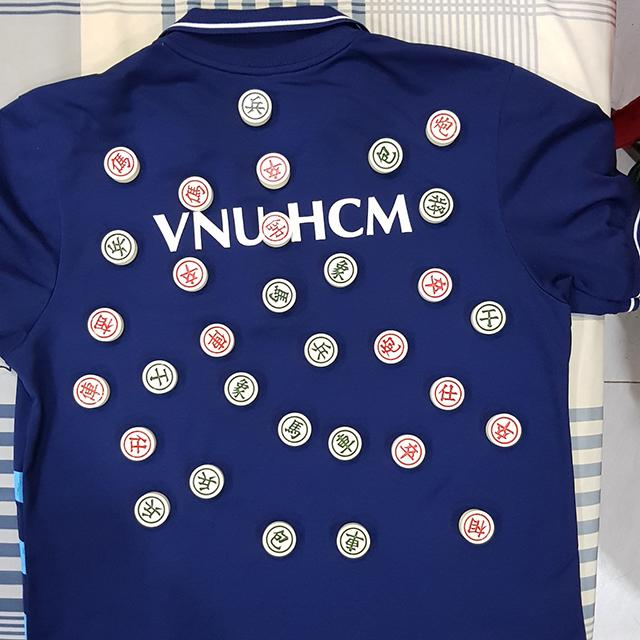black-advisor: (141, 358, 179, 393), (473, 298, 506, 336)
black-cannon: (259, 520, 298, 558), (367, 136, 405, 174)
black-chariot: (327, 424, 364, 462), (338, 522, 370, 558)
black-elephant: (222, 369, 260, 409), (323, 251, 359, 290)
black-general: (418, 187, 455, 224)
black-horse: (276, 411, 314, 450), (259, 276, 298, 314)
black-soldier: (130, 490, 173, 530), (188, 461, 225, 500), (237, 88, 274, 126), (100, 229, 137, 264), (304, 332, 339, 368)
red-advisor: (117, 426, 159, 464), (428, 376, 466, 414)
red-cannon: (372, 327, 410, 366), (426, 108, 460, 146)
red-chariot: (71, 374, 112, 410), (200, 322, 236, 360)
red-elephant: (84, 307, 125, 343), (459, 509, 496, 544)
red-general: (257, 210, 294, 246)
red-horse: (176, 176, 213, 212), (104, 146, 140, 181)
red-soldier: (414, 264, 456, 304), (253, 150, 295, 188), (172, 256, 212, 293), (390, 434, 427, 470), (487, 413, 523, 448)
